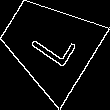L_NW: (20, 17, 77, 71)
